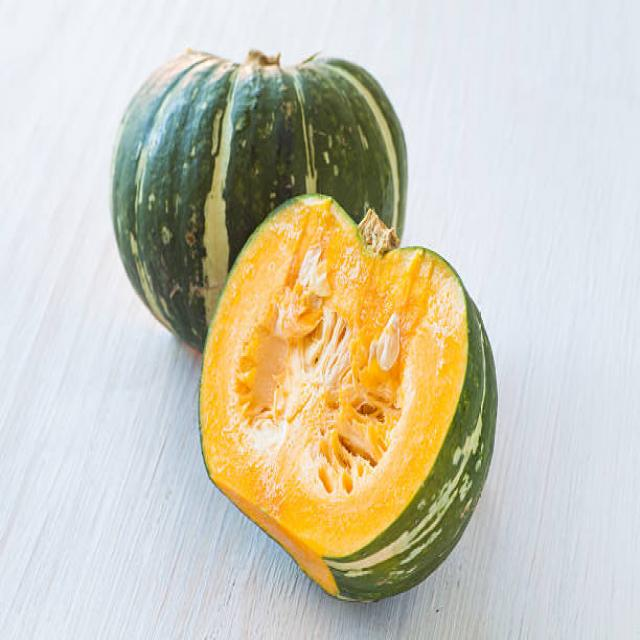Pumpkin: (197, 203, 501, 608), (104, 43, 409, 218)
